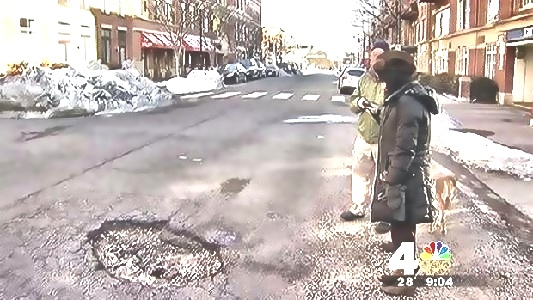pothole: (84, 215, 225, 286)
